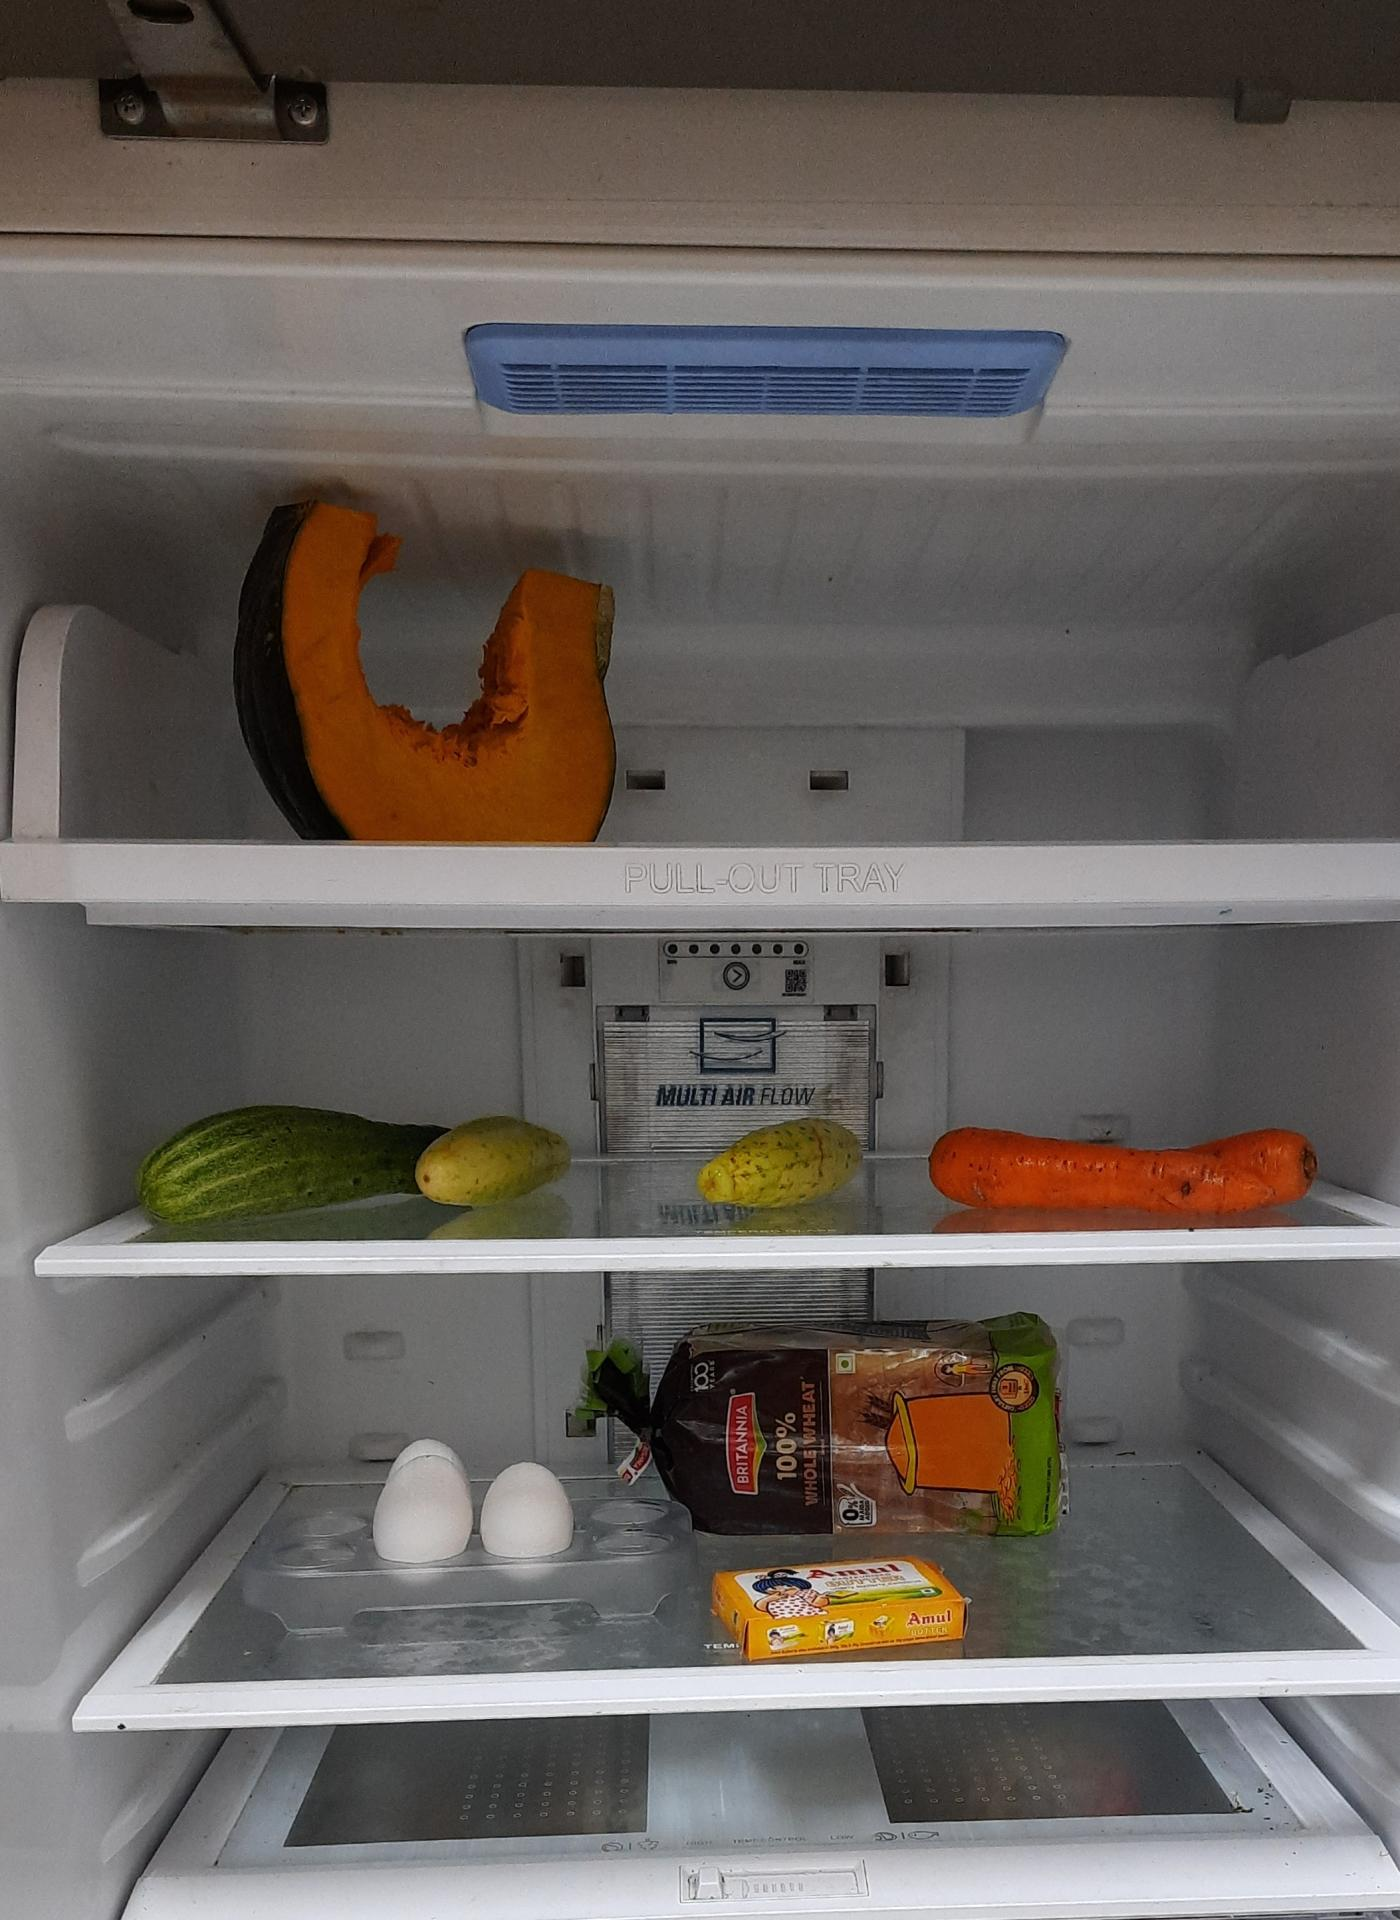bread: (607, 1318, 1076, 1549)
butter: (711, 1571, 978, 1670)
carrots: (930, 1117, 1321, 1206)
cucumber: (133, 1099, 447, 1236), (695, 1118, 868, 1207), (419, 1118, 580, 1209)
egg: (373, 1455, 574, 1568)
pumpkin: (240, 493, 638, 847)
